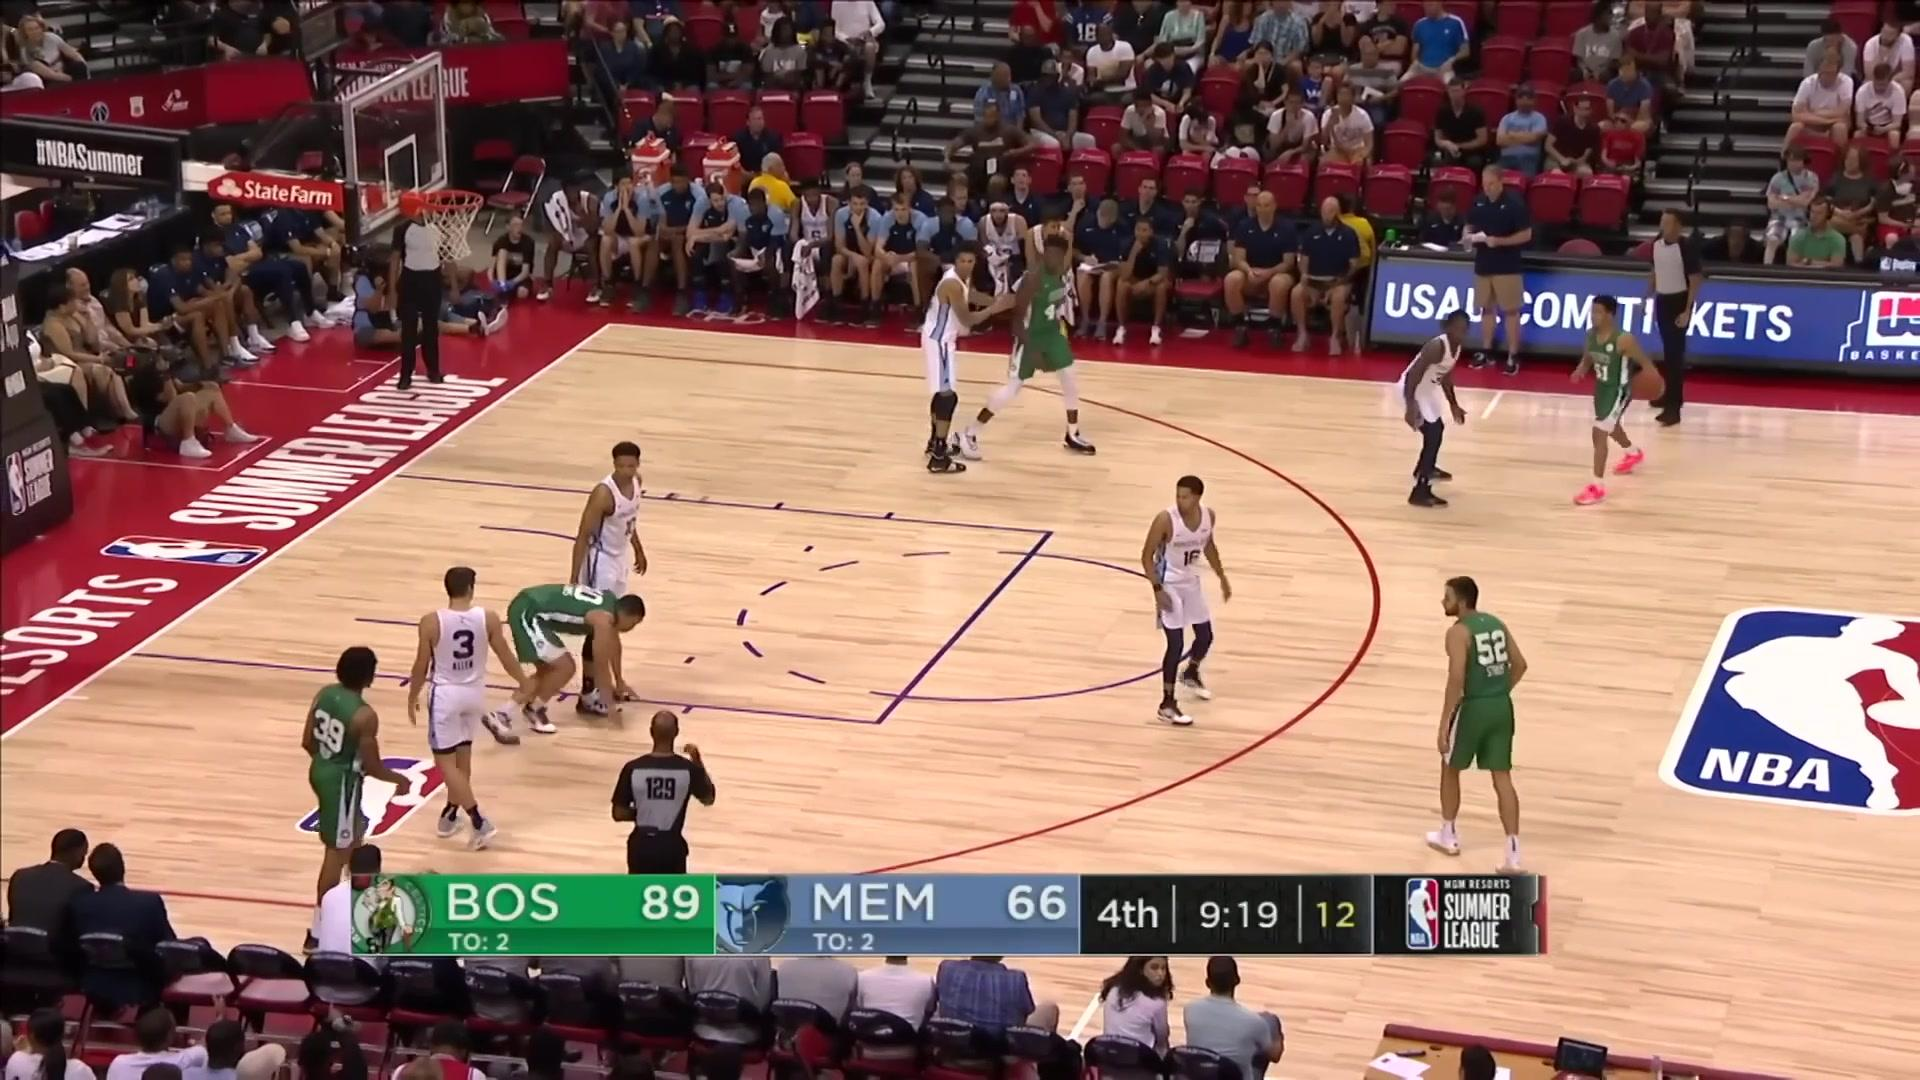foul: (390, 543, 667, 762)
